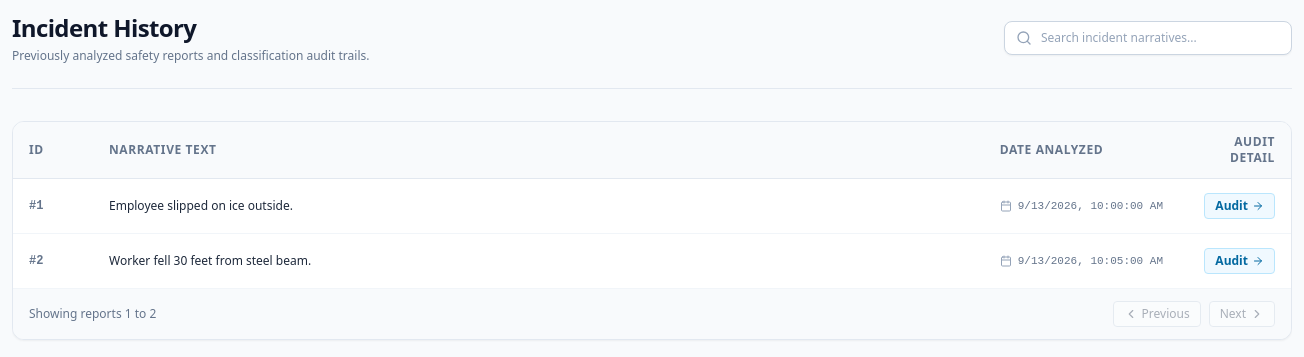
Test case: History Component › filters report list based on search term
The width and height of the screenshot is (1304, 357).
expect the text "Employee slipped on ice outside." is shown: met, box [93,178,984,234]
In the field with placeholder "Search incident narratives...": (1148, 38) [1004,21,1292,55], type "steel beam"
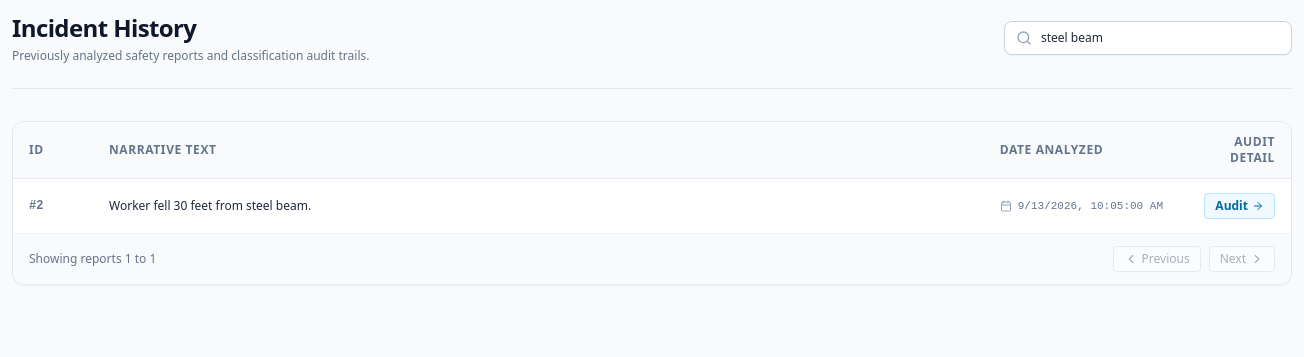
expect the text "Worker fell 30 feet from steel beam." is shown: met, box [93,178,984,233]
expect the text "Employee slipped on ice outside" is gone: met
